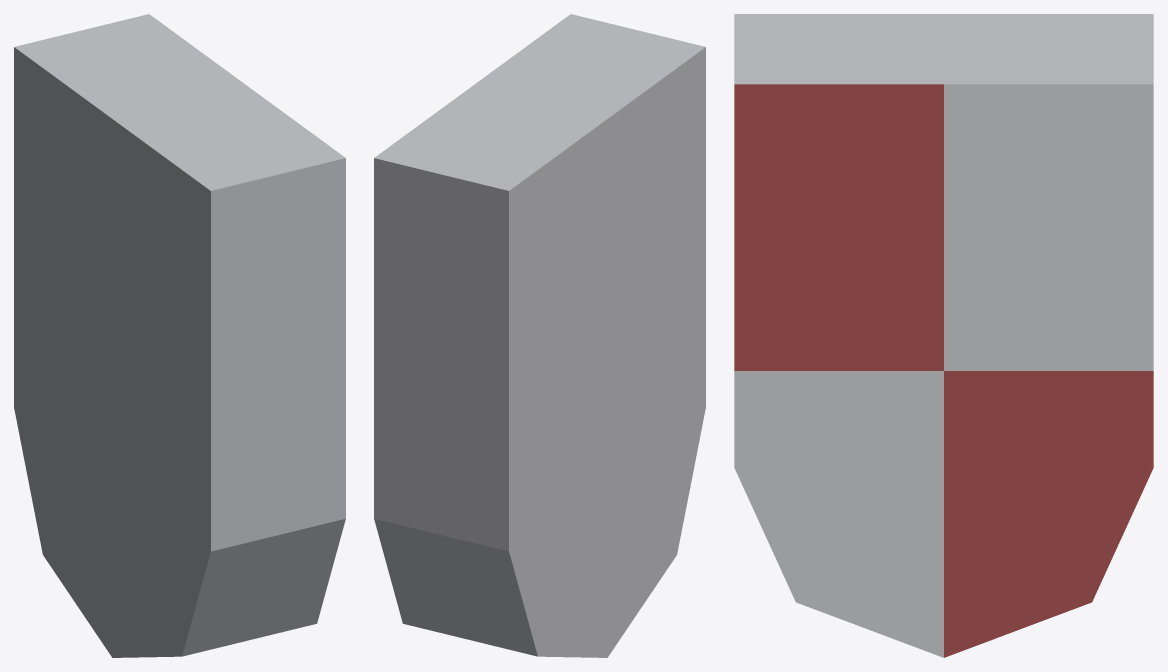
Rendered from Shield_Red_01.obj.
3 views of the same model, side by side, from view 1: azimuth 30°, elevation 25°; view 2: azimuth 150°, elevation 25°; view 3: azimuth 270°, elevation 25° (orthographic). The views are drawn at different scales.
Parts seen in each view (by area): view 1: Mesh1 Shield_Red Model; view 2: Mesh1 Shield_Red Model; view 3: Mesh1 Shield_Red Model.
Boxes of the visible parts, <box> form: Mesh1 Shield_Red Model: <box>14,14,345,657</box>; Mesh1 Shield_Red Model: <box>374,14,705,657</box>; Mesh1 Shield_Red Model: <box>734,14,1153,657</box>.
Size of the model in its own units: 0.2 by 0.7625 by 0.5047.
